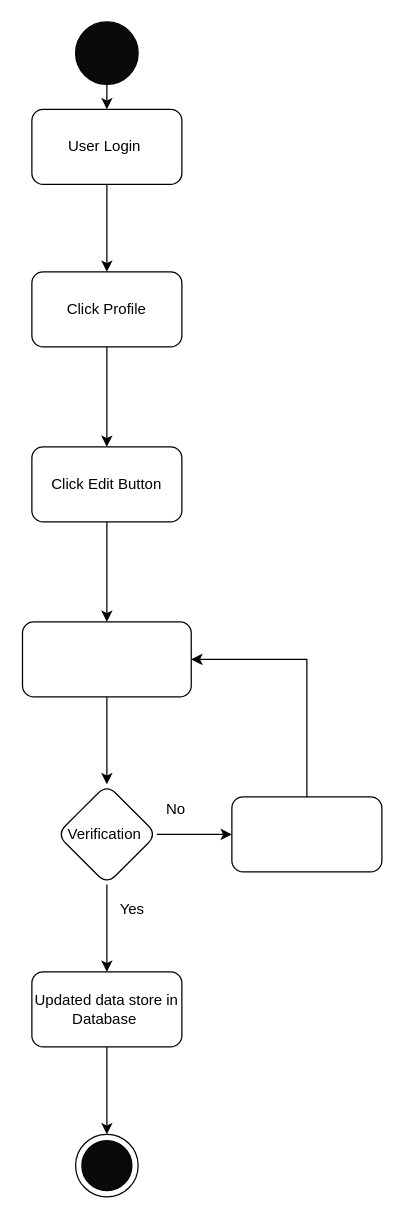
This 404x1219 diagram has some shape labels left out. The shapes that lost their labels are listed below. From the top down, each one's centre as x and y in pixels, then its label:
point 106,659: Update Information or add the required text field
point 306,834: Database Error
